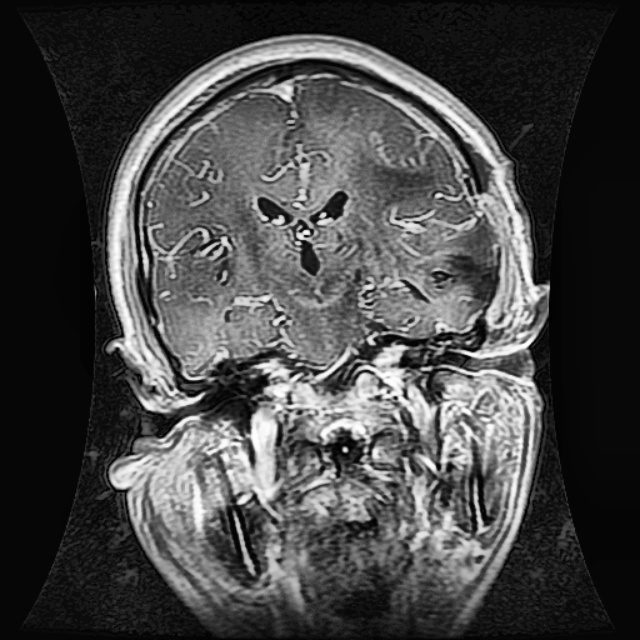Glioma: (377, 233, 502, 339)
